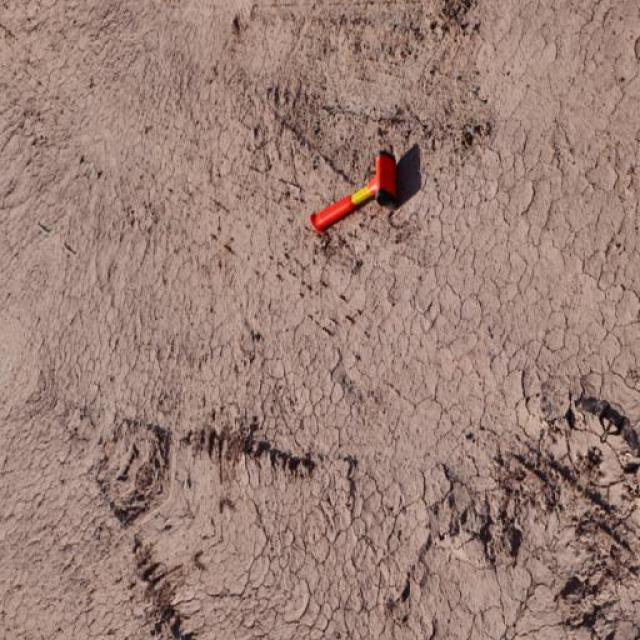mallet: (307, 147, 398, 235)
